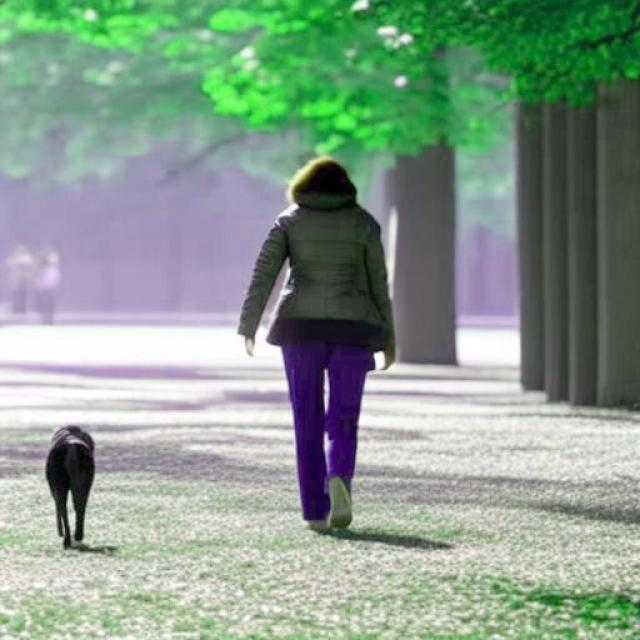Unleashed_Dog: (44, 313, 369, 551)
